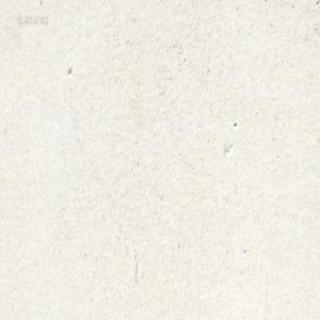Wrenchtrack_idkeyframe: (138, 0, 144, 4)
